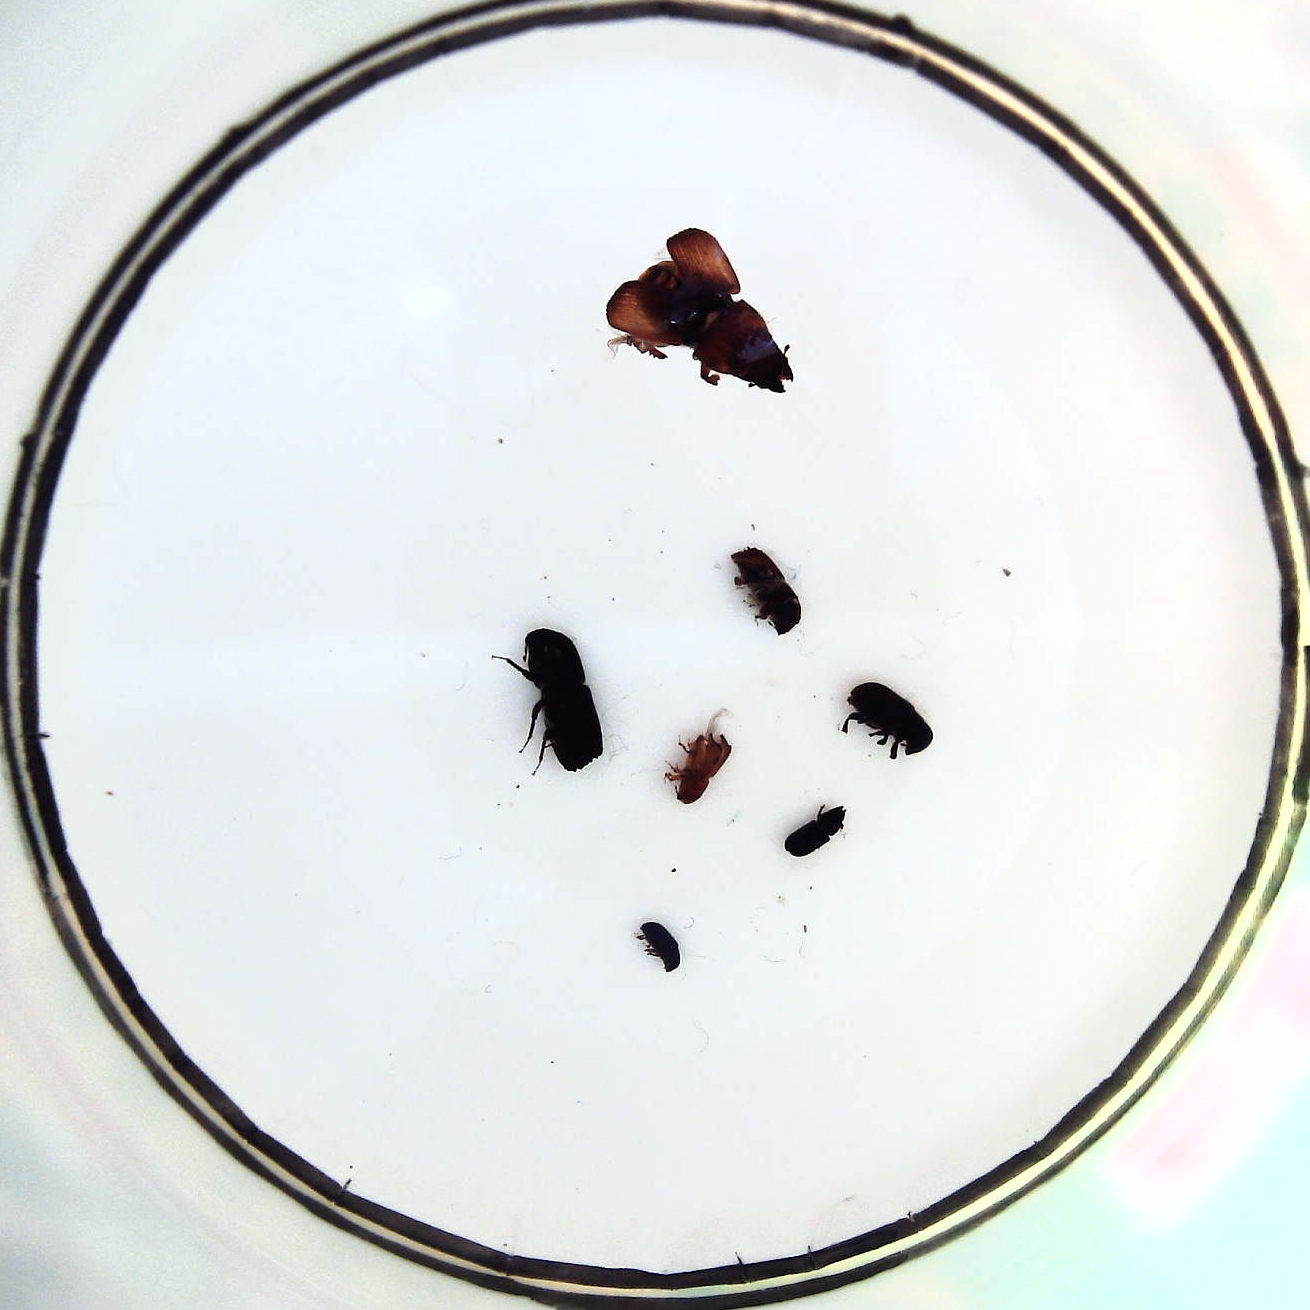Boerner: (519, 624, 603, 771)
Leconte: (608, 223, 793, 393)
Linnaeus: (731, 545, 798, 635)
acuminatus: (674, 732, 731, 806)
armandi: (846, 684, 929, 761)
coleoptera: (781, 805, 849, 857), (639, 918, 680, 971)
